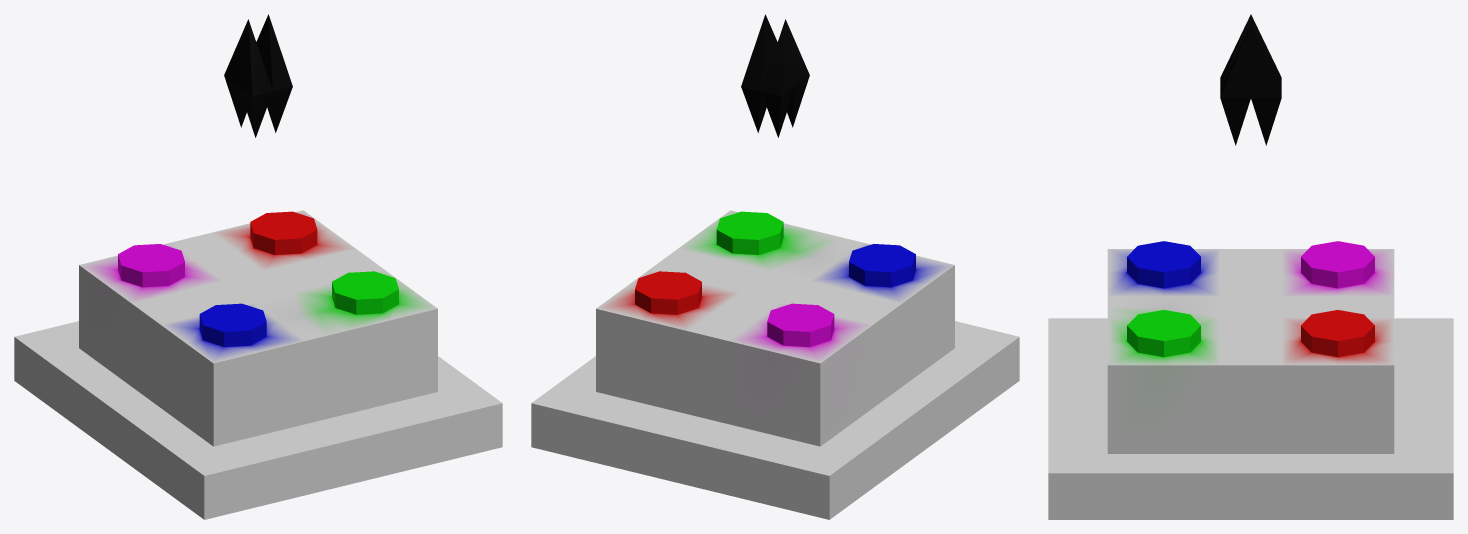
Rendered from Vertex Color Testing.fbx.
3 views of the same model, side by side, from view 1: azimuth 30°, elevation 25°; view 2: azimuth 150°, elevation 25°; view 3: azimuth 270°, elevation 25° (orthographic). The views are drawn at different scales.
Visible parts, largest first — view 1: Cube.003; view 2: Cube.003; view 3: Cube.003.
Part boxes in pixels (bbox=[...]): Cube.003: bbox=[14, 14, 502, 519]; Cube.003: bbox=[531, 14, 1019, 519]; Cube.003: bbox=[1048, 14, 1453, 519].
Size of the model in its own units: 13391 by 17057 by 14792.
